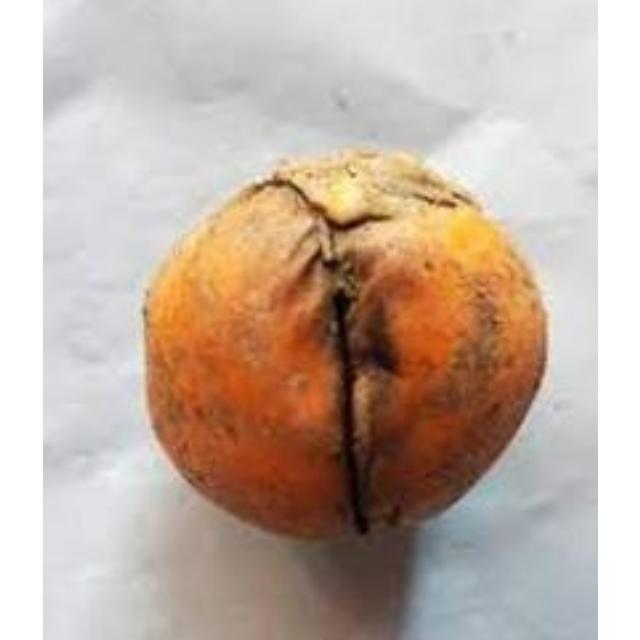damaged: (143, 151, 544, 536)
